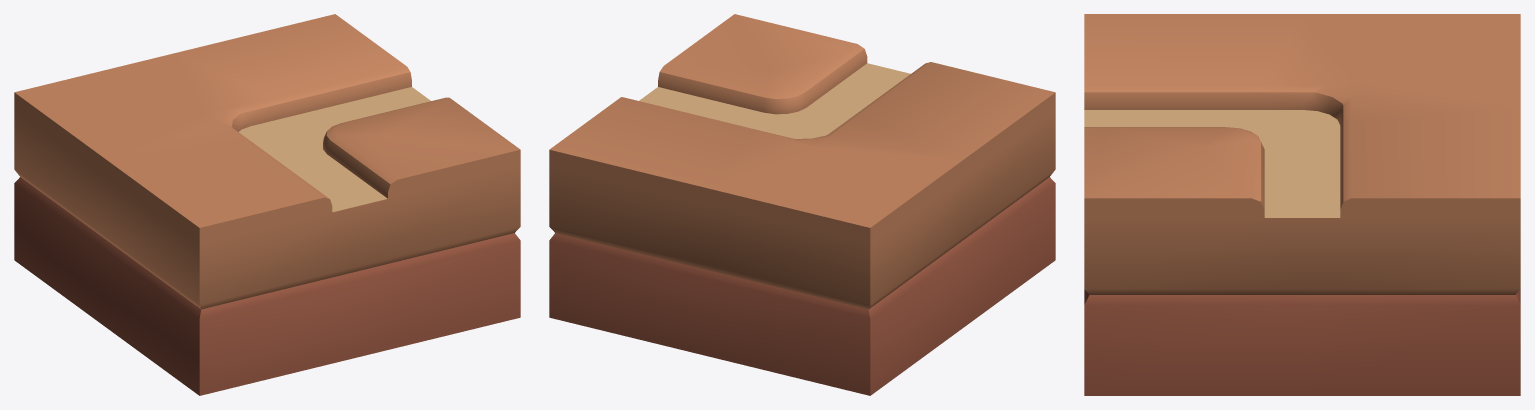
Rendered from square_rock_roadC_detail.glb.
3 views of the same model, side by side, from view 1: azimuth 30°, elevation 25°; view 2: azimuth 150°, elevation 25°; view 3: azimuth 270°, elevation 25° (orthographic). The views are drawn at different scales.
Visible parts, largest first — view 1: square_rock_roadC_detail; view 2: square_rock_roadC_detail; view 3: square_rock_roadC_detail.
Boxes of the visible parts, box(x1,y1,x2,y2) form: square_rock_roadC_detail: box(14, 14, 520, 395); square_rock_roadC_detail: box(549, 14, 1055, 395); square_rock_roadC_detail: box(1084, 14, 1520, 395).
Bounding box in the file's own units: 3.82 × 1.91 × 3.82.
